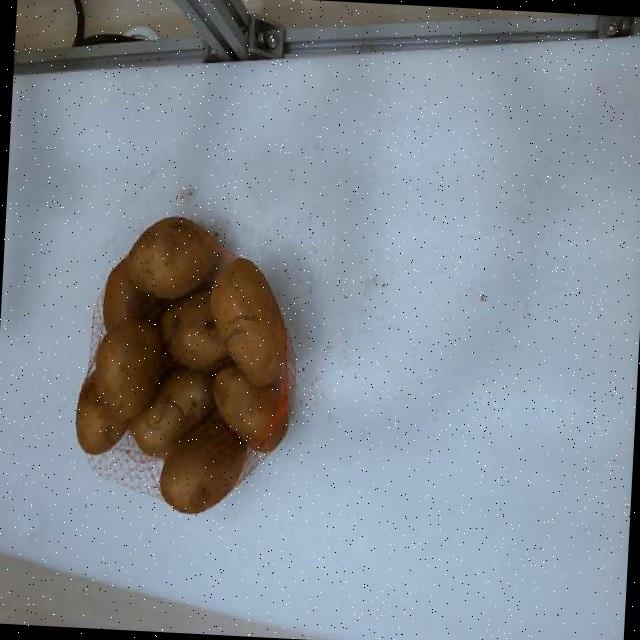potato: (210, 258, 285, 385), (160, 418, 246, 512), (128, 218, 225, 298), (93, 319, 166, 420), (130, 369, 211, 459), (160, 290, 226, 371), (214, 366, 280, 445), (75, 376, 127, 454), (102, 259, 156, 329)
